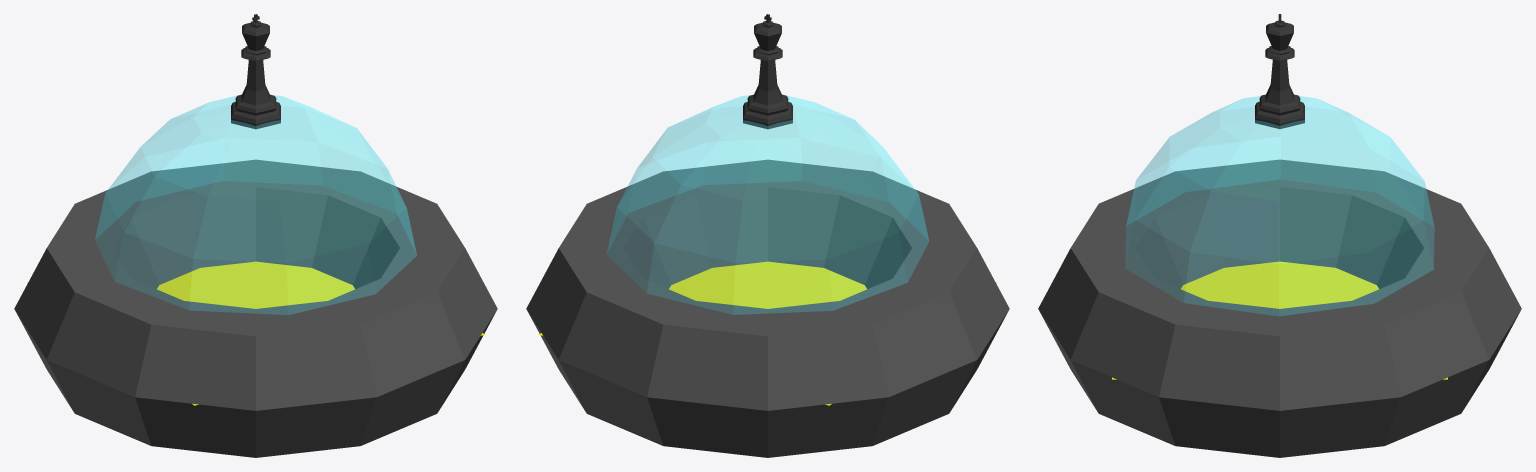
Rendered from Black King Base 3.glb.
The picture shows the model from 3 angles, left to right: view 1: azimuth 30°, elevation 25°; view 2: azimuth 150°, elevation 25°; view 3: azimuth 270°, elevation 25°; orthographic projection.
Visible parts, largest first — view 1: Torus, Sphere, Plane, King; view 2: Torus, Sphere, Plane, King; view 3: Torus, Sphere, Plane, King.
Part boxes in pixels (bbox=[...]): Torus: bbox=[14, 159, 497, 457]; Sphere: bbox=[95, 96, 416, 314]; Plane: bbox=[27, 261, 484, 405]; King: bbox=[231, 14, 280, 129]; Torus: bbox=[526, 159, 1009, 457]; Sphere: bbox=[607, 95, 928, 314]; Plane: bbox=[539, 261, 996, 405]; King: bbox=[743, 14, 792, 129]; Torus: bbox=[1038, 159, 1521, 457]; Sphere: bbox=[1125, 96, 1434, 315]; Plane: bbox=[1112, 261, 1447, 379]; King: bbox=[1255, 14, 1304, 128].
Bounding box in the file's own units: 7.36 × 6.58 × 7.36.
